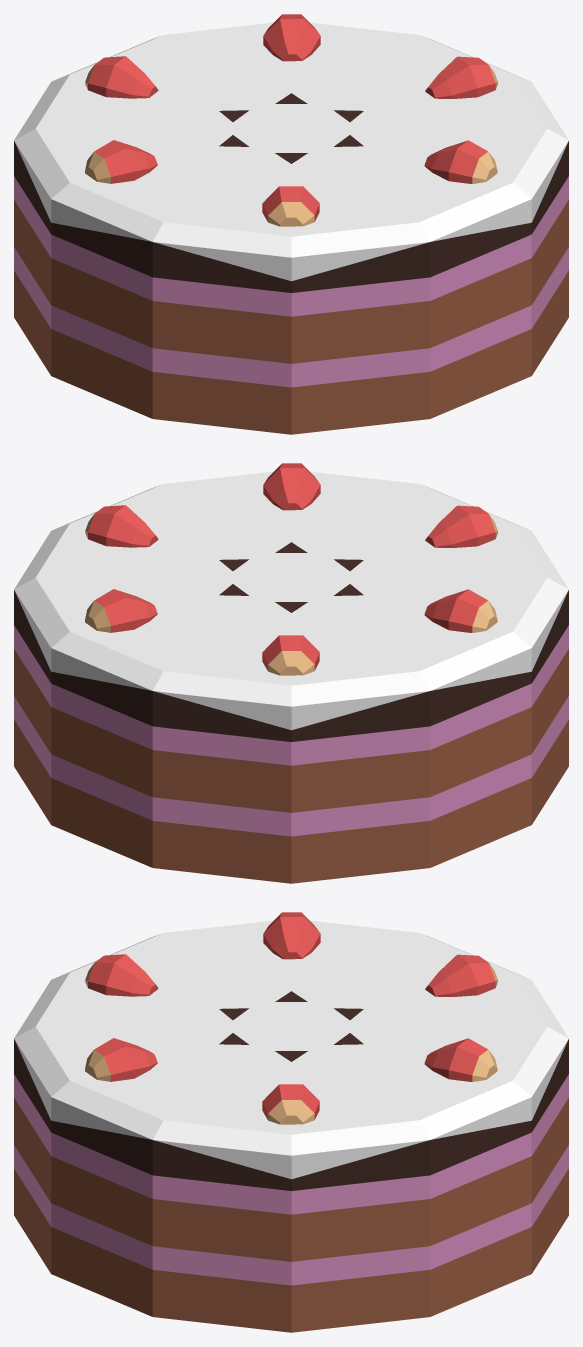
The model's file is cake.fbx.
3 renders of one model, top to bottom at view 1: azimuth 30°, elevation 25°; view 2: azimuth 150°, elevation 25°; view 3: azimuth 270°, elevation 25°, orthographic.
Visible parts, largest first — view 1: slice (×6); view 2: slice (×6); view 3: slice (×6).
Part boxes in pixels (<box>): slice (×6): <box>14,14,568,434</box>; slice (×6): <box>14,463,568,883</box>; slice (×6): <box>14,912,568,1332</box>.
Bounding box in the file's own units: 6.39 × 2.73 × 6.39.
